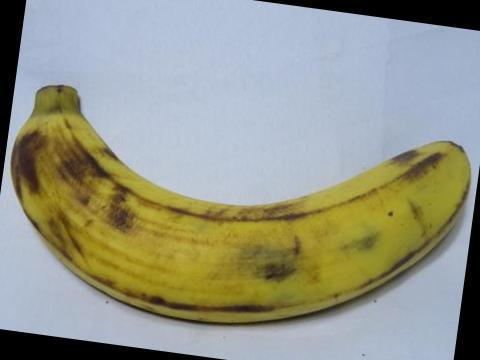overripe: (0, 69, 479, 329)
